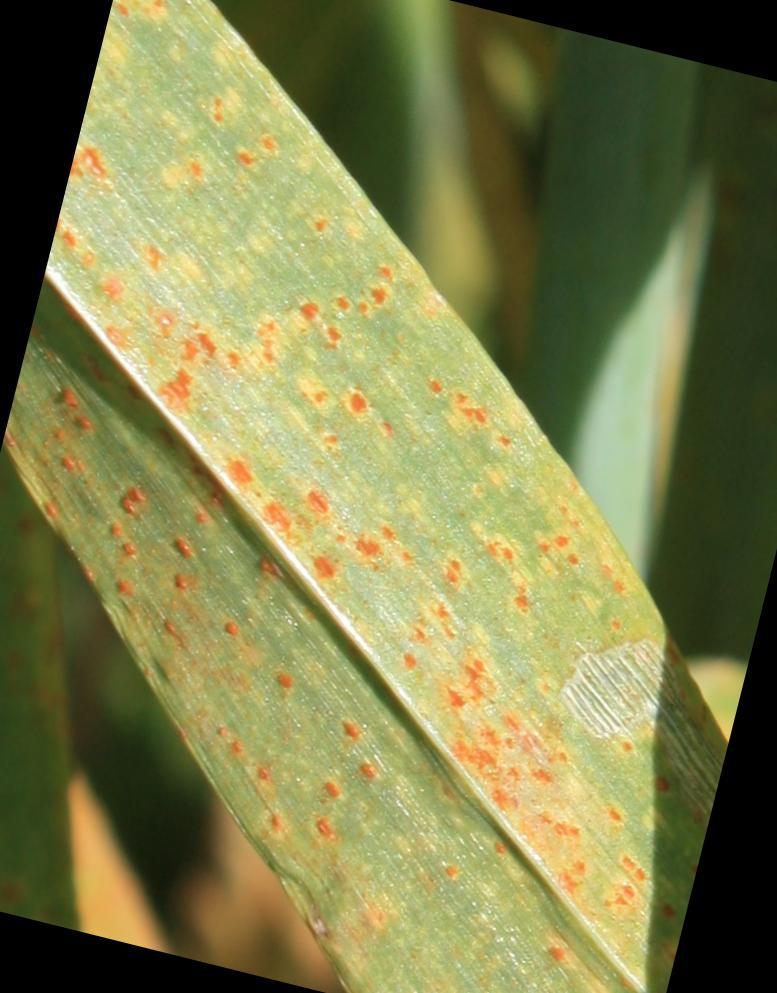Wheat: (95, 195, 468, 620), (220, 612, 665, 968)
